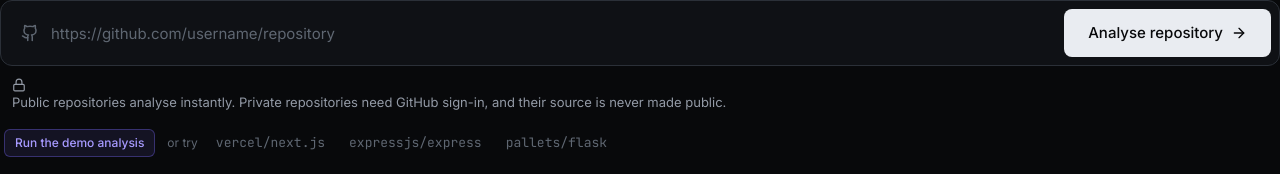
Test: RepoInput › surfaces a server error with its hint rather than failing silently
This screenshot has width=1280, height=174.
Type "github.com/acme/app" into the field named "GitHub repository URL" at (548, 33), box [51,11,1044,55]
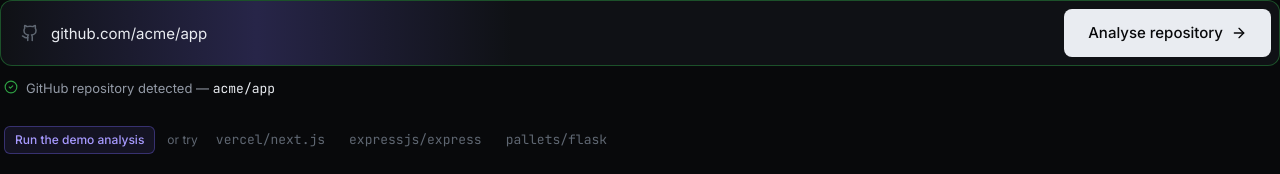
Click the button "Analyse repository" at (1168, 33), box [1064,9,1271,57]
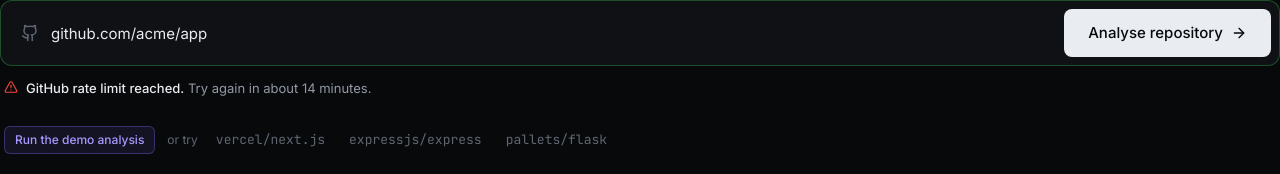
Now the text "GitHub rate limit reached." is shown, box [26,80,184,96]
Now the text "Try again in about 14 minutes." is shown, box [184,80,371,96]
